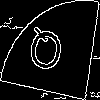Q: (25, 25, 66, 81)
